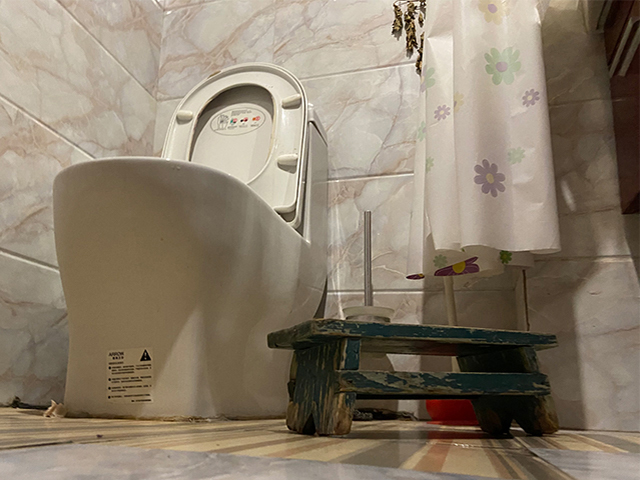closestool: (51, 60, 332, 425)
stool: (264, 319, 559, 441)
